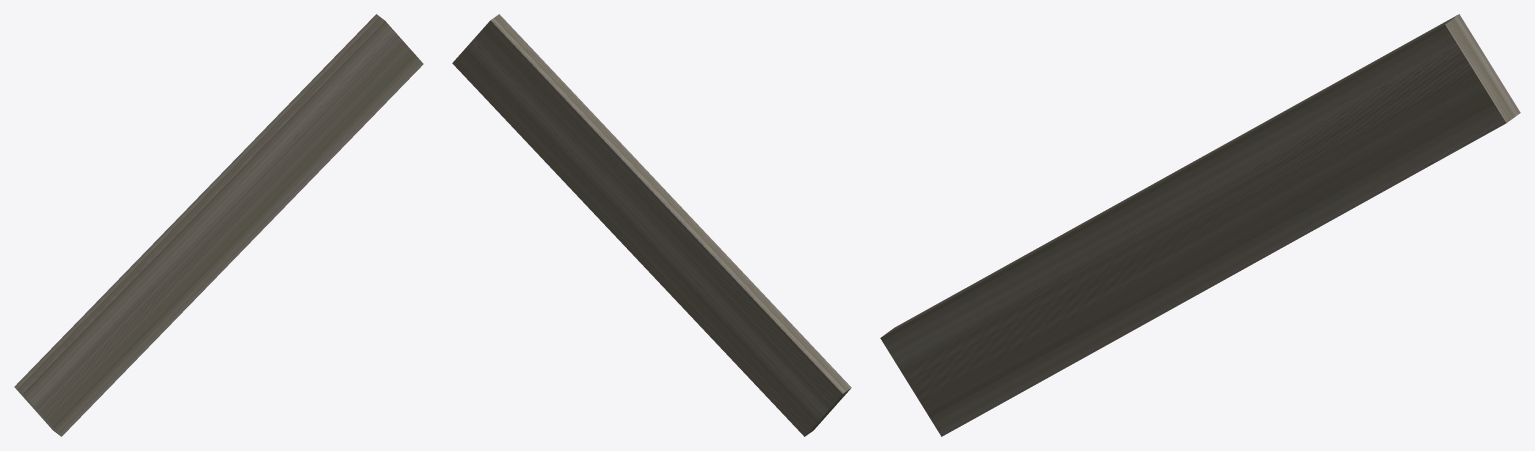
The model's file is tabua1.fbx.
3 views of the same model, side by side, from view 1: azimuth 30°, elevation 25°; view 2: azimuth 150°, elevation 25°; view 3: azimuth 330°, elevation 25° (orthographic). The views are drawn at different scales.
Visible parts, largest first — view 1: Cube.002; view 2: Cube.002; view 3: Cube.002.
Boxes of the visible parts, left/top/right/bottom form: Cube.002: left=14, top=14, right=423, bottom=436; Cube.002: left=452, top=14, right=851, bottom=436; Cube.002: left=880, top=14, right=1520, bottom=436.
Bounding box in the file's own units: 147 × 120 × 7.65.
1 material, 1 textured.
